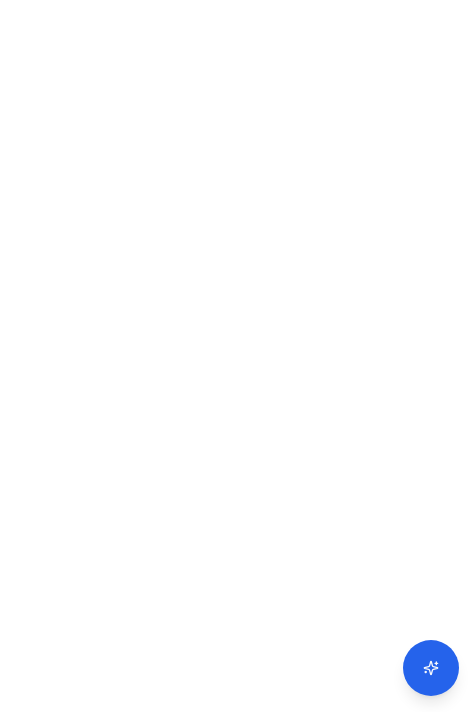
it: AIAssistant › renders empty state and quick prompts after opening
Click the button named "Открыть AI-ассистента". click: (431, 668)
box: top-left (403, 640), bottom-right (459, 696)
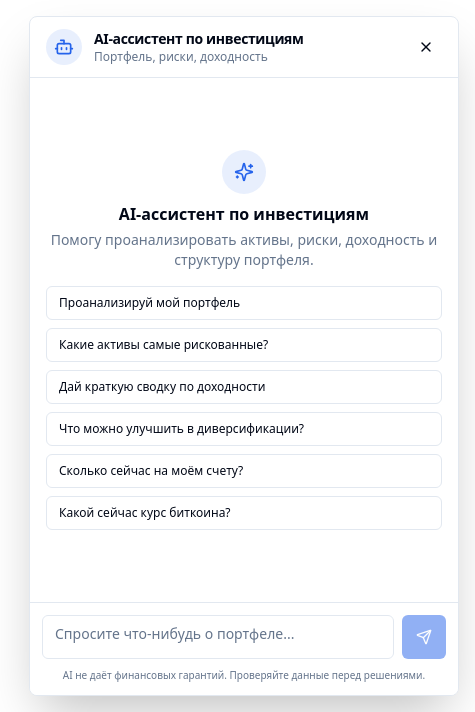
expect the text "AI-ассистент по инвестициям" is shown 2 times: met, box top-left (94, 29), bottom-right (304, 49); top-left (119, 203), bottom-right (369, 225)
expect the text "Помогу проанализировать активы, риски, доходность и структуру портфеля." is shown: met, box top-left (46, 230), bottom-right (442, 270)
expect the button "Проанализируй мой портфель" is shown: met, box top-left (46, 286), bottom-right (442, 320)
